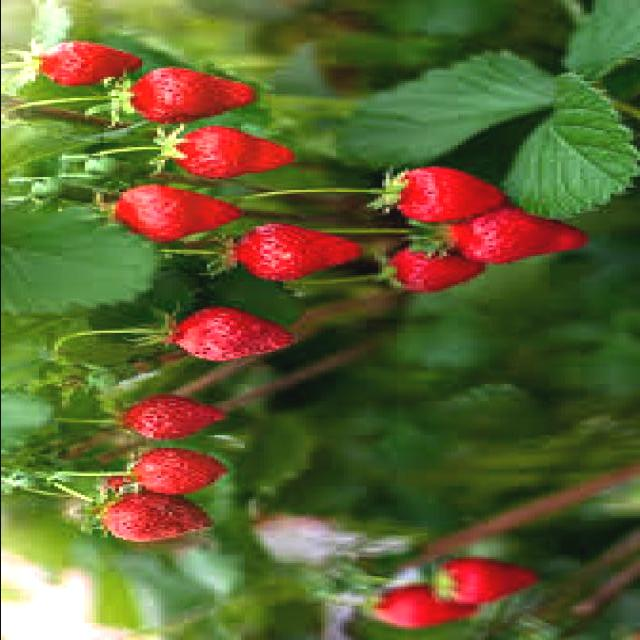ripe: (229, 219, 366, 284), (120, 64, 263, 125), (448, 207, 590, 265), (106, 184, 242, 244), (162, 306, 306, 362), (163, 124, 293, 180), (378, 238, 491, 300), (430, 549, 546, 607), (386, 163, 500, 220), (120, 391, 236, 446), (22, 37, 144, 88), (99, 494, 211, 546), (361, 584, 475, 634), (124, 448, 230, 493)
